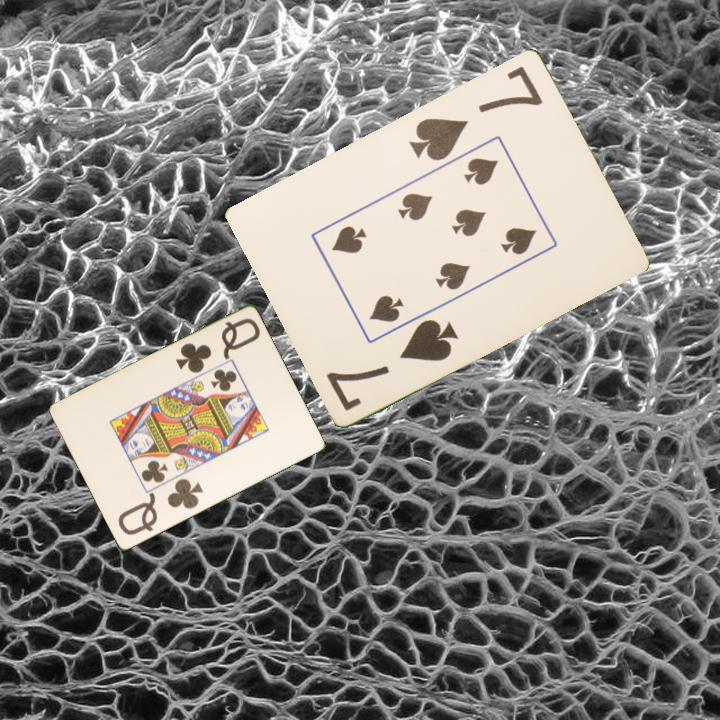7s: (405, 62, 546, 164), (322, 315, 462, 414)
Qc: (114, 475, 206, 539), (172, 315, 263, 376)
